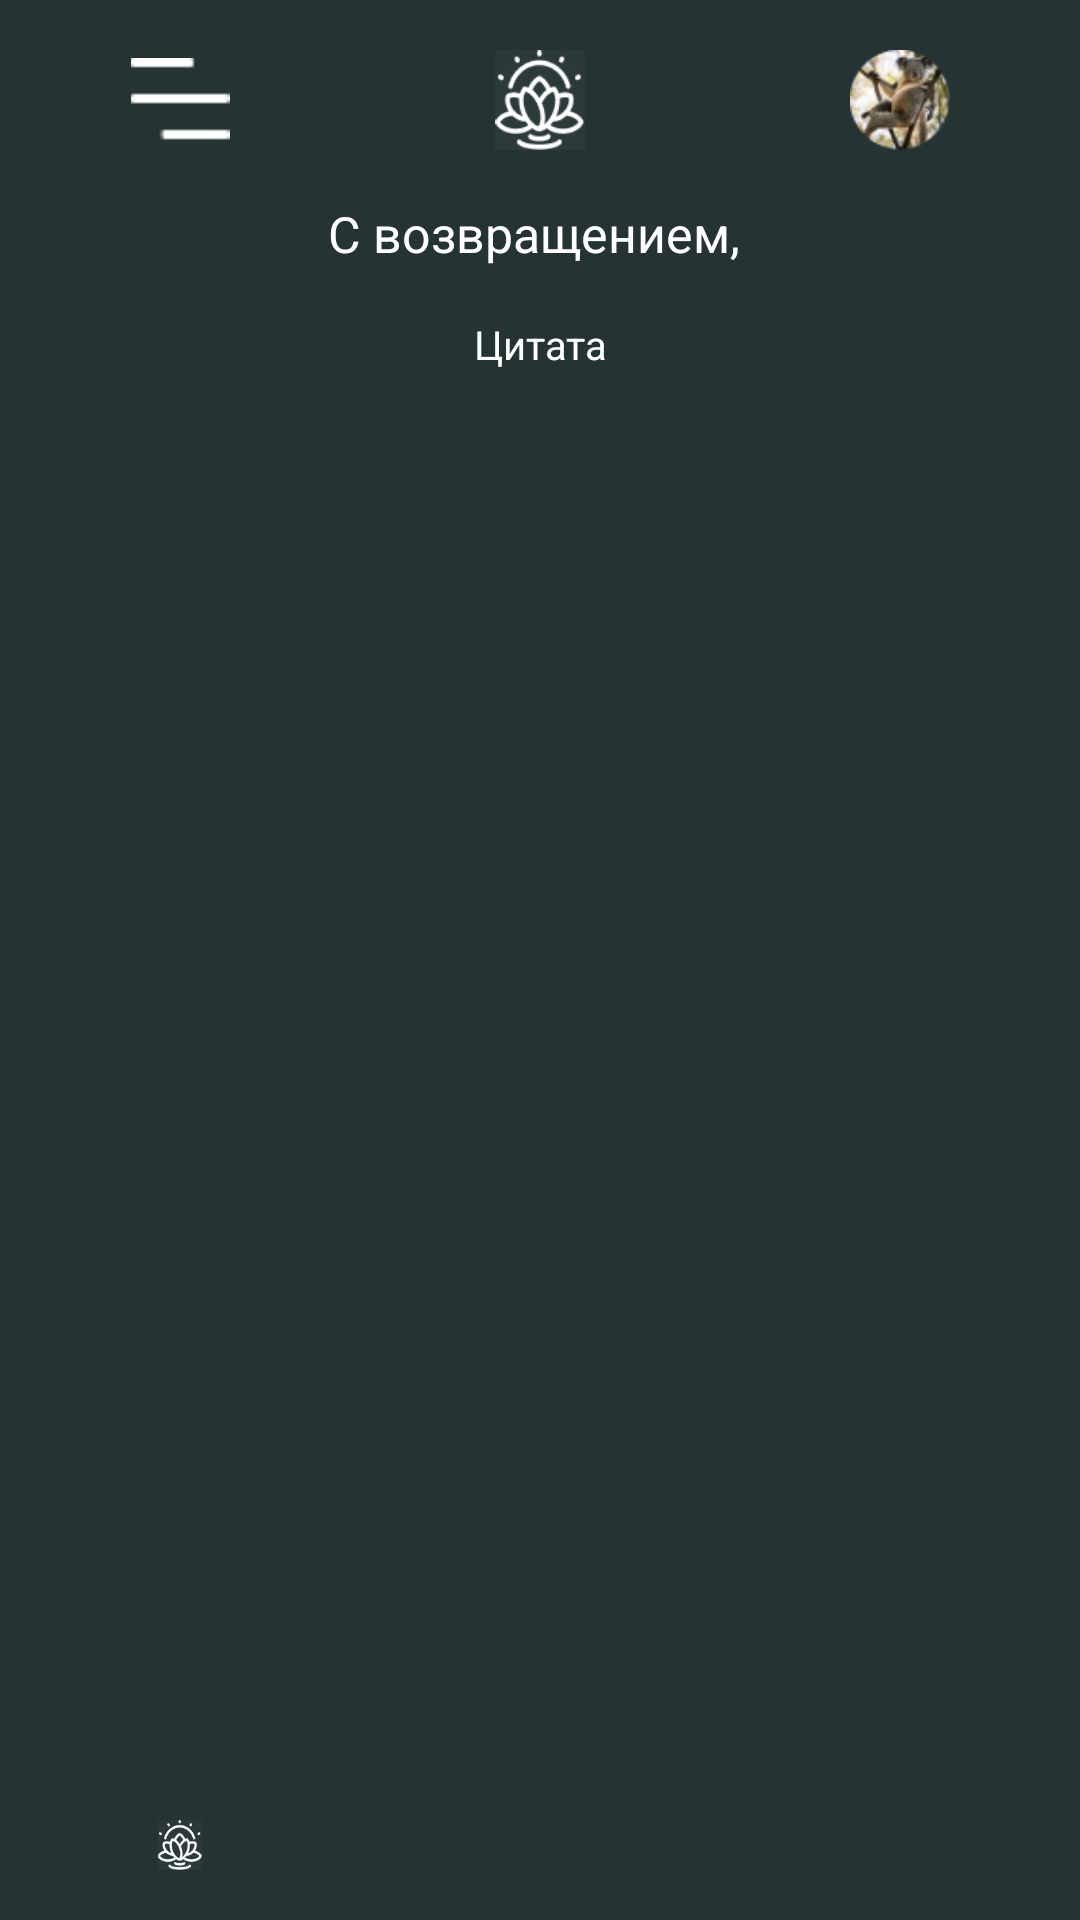

Named icons in this screenshot (1080 x 1920) and their bounding boxes, [x1,y1,x2,y2]:
hamburger: [131,58,230,140]
